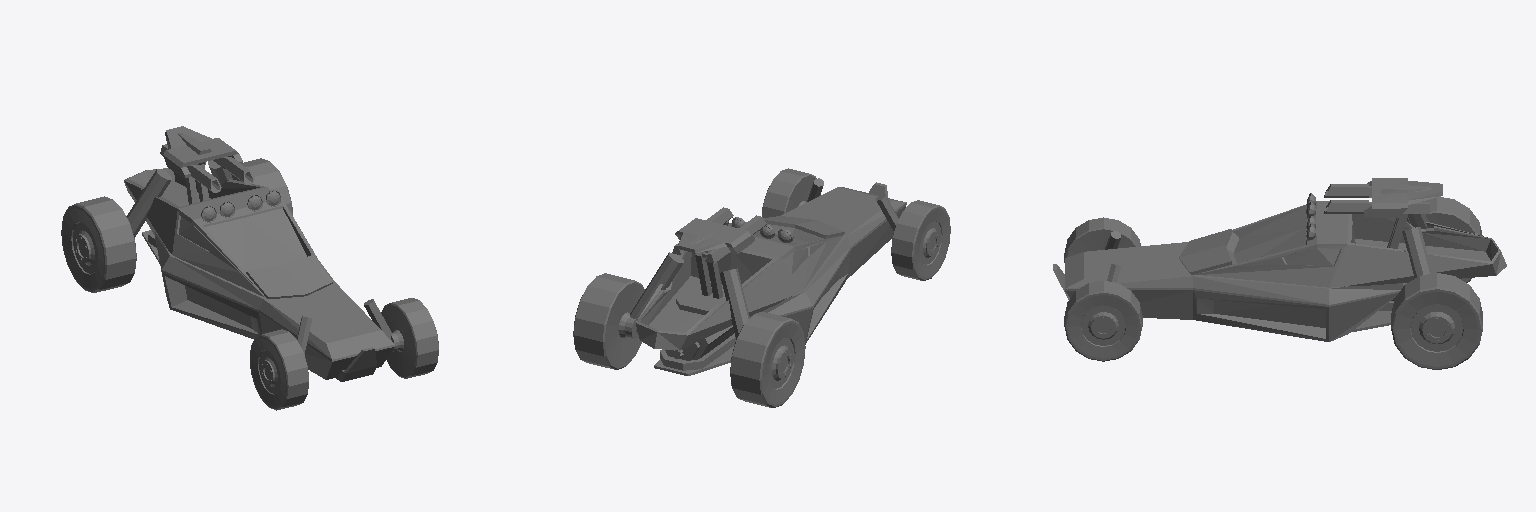
File: AssaultBuggy.obj
The picture shows the model from 3 angles: view 1: azimuth 30°, elevation 25°; view 2: azimuth 150°, elevation 25°; view 3: azimuth 270°, elevation 25°; orthographic projection.
Parts seen in each view (by area): view 1: AssaultBuggy Compartment, Body AssaultBuggy, AssaultBuggy Wheels pCylinder16, AssaultBuggy Wheels pCylinder14, AssaultBuggy Wheels pCylinder11, AssaultBuggy Turret pCube22, AssaultBuggy Wheels pCylinder13, AssaultBuggy Wheels pCylinder12, AssaultBuggy SkidPlate, AssaultBuggy Turret pCube24; view 2: AssaultBuggy Compartment, Body AssaultBuggy, AssaultBuggy Wheels pCylinder16, AssaultBuggy Wheels pCylinder12, AssaultBuggy Wheels pCylinder14, AssaultBuggy Turret pCube22, AssaultBuggy Wheels pCylinder11, AssaultBuggy Wheels pCylinder13, AssaultBuggy pCylinder3 Wheels, AssaultBuggy Turret pCube25, AssaultBuggy Supports, AssaultBuggy Turret pCube26 (+3 smaller); view 3: AssaultBuggy Compartment, Body AssaultBuggy, AssaultBuggy Wheels pCylinder12, AssaultBuggy Wheels pCylinder11, AssaultBuggy Turret pCube22, AssaultBuggy Wheels pCylinder14, AssaultBuggy Wheels pCylinder16, AssaultBuggy pCylinder3 Wheels, AssaultBuggy Turret pCube23, AssaultBuggy Turret pCube24, AssaultBuggy SkidPlate.
Boxes of the visible parts, <box> form: AssaultBuggy Compartment: <box>124,168,332,298</box>; Body AssaultBuggy: <box>155,232,394,379</box>; AssaultBuggy Wheels pCylinder16: <box>61,196,136,292</box>; AssaultBuggy Wheels pCylinder14: <box>250,329,308,410</box>; AssaultBuggy Wheels pCylinder11: <box>381,298,438,378</box>; AssaultBuggy Turret pCube22: <box>163,126,242,178</box>; AssaultBuggy Wheels pCylinder13: <box>126,169,171,237</box>; AssaultBuggy Wheels pCylinder12: <box>231,158,292,215</box>; AssaultBuggy SkidPlate: <box>142,230,376,381</box>; AssaultBuggy Turret pCube24: <box>160,144,221,192</box>; AssaultBuggy Compartment: <box>636,216,844,349</box>; Body AssaultBuggy: <box>750,187,906,344</box>; AssaultBuggy Wheels pCylinder16: <box>730,312,805,407</box>; AssaultBuggy Wheels pCylinder12: <box>573,273,644,369</box>; AssaultBuggy Wheels pCylinder14: <box>891,200,950,280</box>; AssaultBuggy Turret pCube22: <box>675,218,754,253</box>; AssaultBuggy Wheels pCylinder11: <box>762,168,820,217</box>; AssaultBuggy Wheels pCylinder13: <box>720,268,749,338</box>; AssaultBuggy pCylinder3 Wheels: <box>630,252,683,332</box>; AssaultBuggy Turret pCube25: <box>676,282,726,314</box>; AssaultBuggy Supports: <box>660,334,735,370</box>; AssaultBuggy Turret pCube26: <box>695,249,722,298</box>; AssaultBuggy Compartment: <box>1179,201,1506,287</box>; Body AssaultBuggy: <box>1065,242,1402,341</box>; AssaultBuggy Wheels pCylinder12: <box>1391,273,1482,369</box>; AssaultBuggy Wheels pCylinder11: <box>1064,281,1142,361</box>; AssaultBuggy Turret pCube22: <box>1364,178,1442,217</box>; AssaultBuggy Wheels pCylinder14: <box>1064,217,1140,262</box>; AssaultBuggy Wheels pCylinder16: <box>1422,197,1482,282</box>; AssaultBuggy pCylinder3 Wheels: <box>1402,227,1432,277</box>; AssaultBuggy Turret pCube23: <box>1324,200,1429,213</box>; AssaultBuggy Turret pCube24: <box>1324,184,1371,197</box>; AssaultBuggy SkidPlate: <box>1053,264,1391,331</box>.
Bounding box in the file's own units: 31.33 × 21.39 × 63.82.